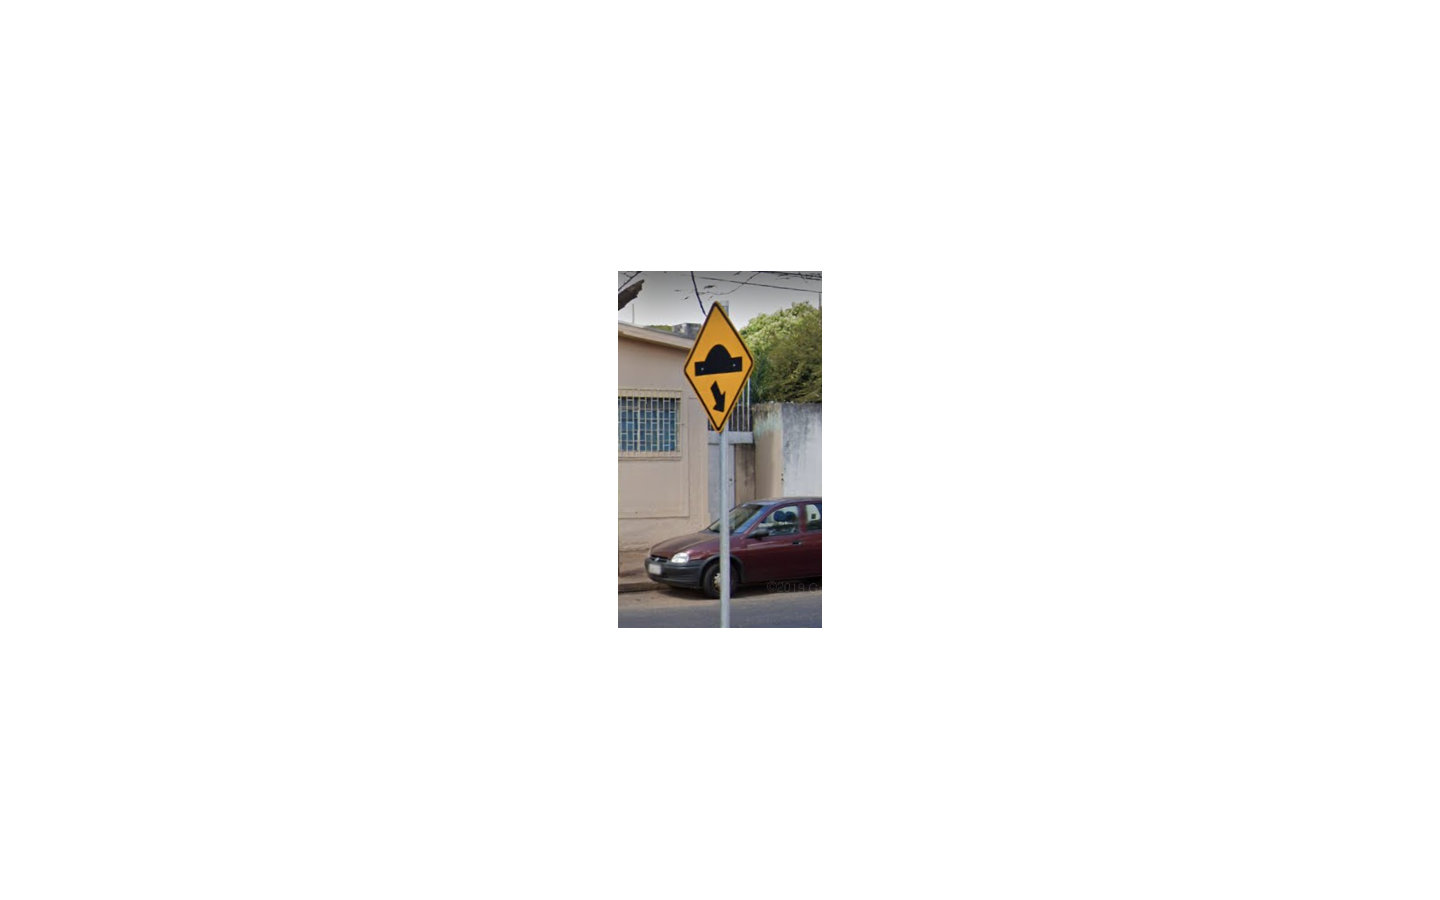lomb: (682, 300, 755, 433)
